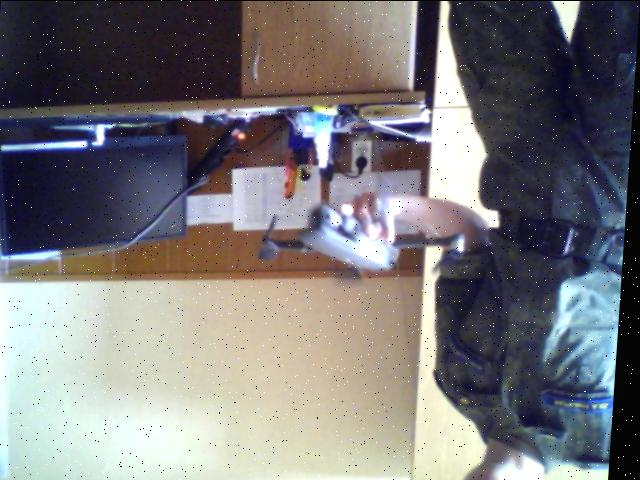drone: (252, 178, 483, 298)
